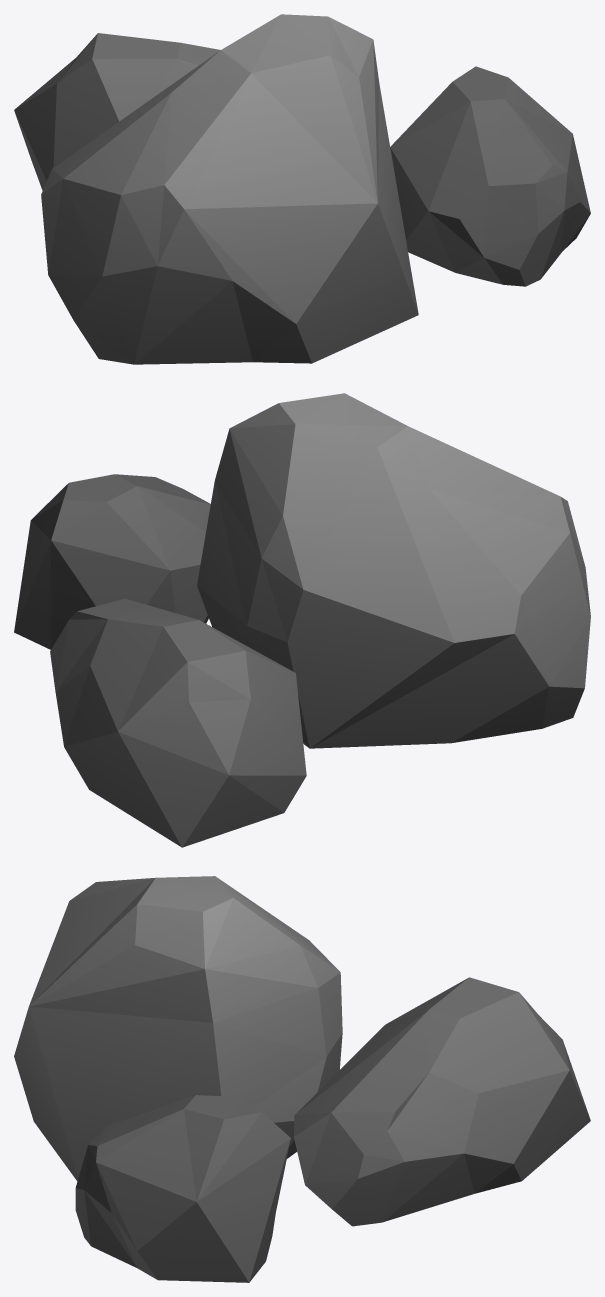
Rendered from Env_Rock_02.obj.
The picture shows the model from 3 angles, top to bottom: view 1: azimuth 30°, elevation 25°; view 2: azimuth 150°, elevation 25°; view 3: azimuth 270°, elevation 25°; orthographic projection. The views are drawn at different scales.
Visible parts, largest first — view 1: Env_Rock_02; view 2: Env_Rock_02; view 3: Env_Rock_02.
Boxes of the visible parts, x1,y1,x2,y2 form: Env_Rock_02: (14,14,590,364); Env_Rock_02: (14,393,590,847); Env_Rock_02: (14,876,590,1282).
Bounding box in the file's own units: 2.06 × 0.9924 × 2.01.
Materials: 1 (1 with a texture image).
